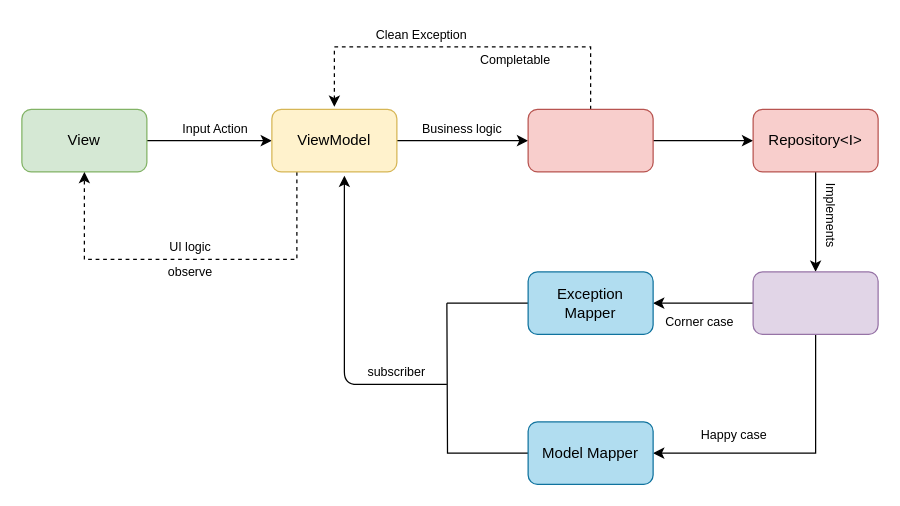
Image size: 900x506. Some labels were removed from this diagram. The shapes that lost their labels are listed below. From the top down, each one's centre as x and y in pixels, then its label:
point 590,140: UseCase
point 815,302: Repository<O>
